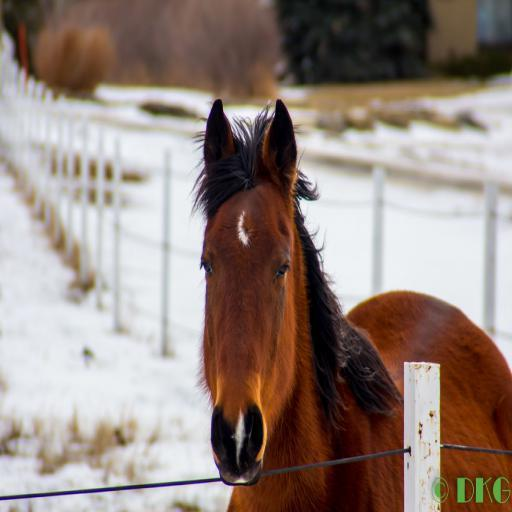horse: (188, 98, 512, 510)
